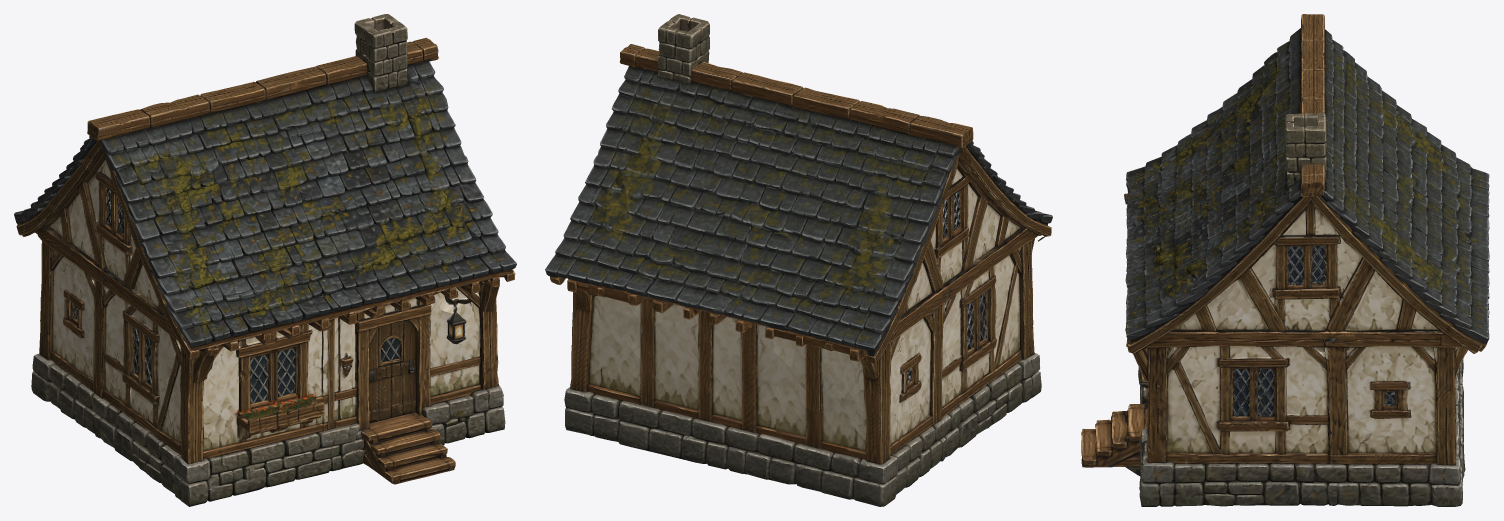
File: cottage.glb
The picture shows the model from 3 angles, left to right: view 1: azimuth 30°, elevation 25°; view 2: azimuth 150°, elevation 25°; view 3: azimuth 270°, elevation 25°; orthographic projection. The views are drawn at different scales.
Bounding box in the file's own units: 1.82 × 1.82 × 1.84.
Materials: 1 (1 with a texture image).
